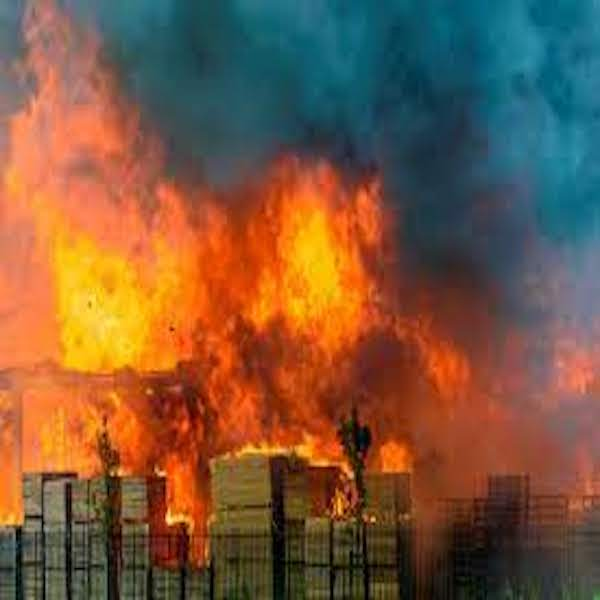fire: (29, 131, 399, 375), (3, 393, 345, 460), (406, 315, 482, 420), (166, 465, 207, 527), (373, 433, 416, 475)
